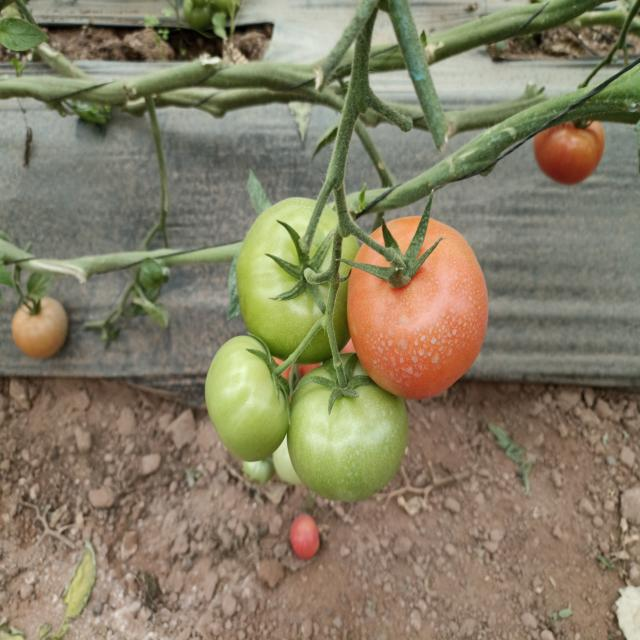Ripe Tomato: (349, 216, 488, 400)
Unripe Tomato: (238, 199, 361, 354), (286, 358, 409, 502), (206, 336, 292, 460)
